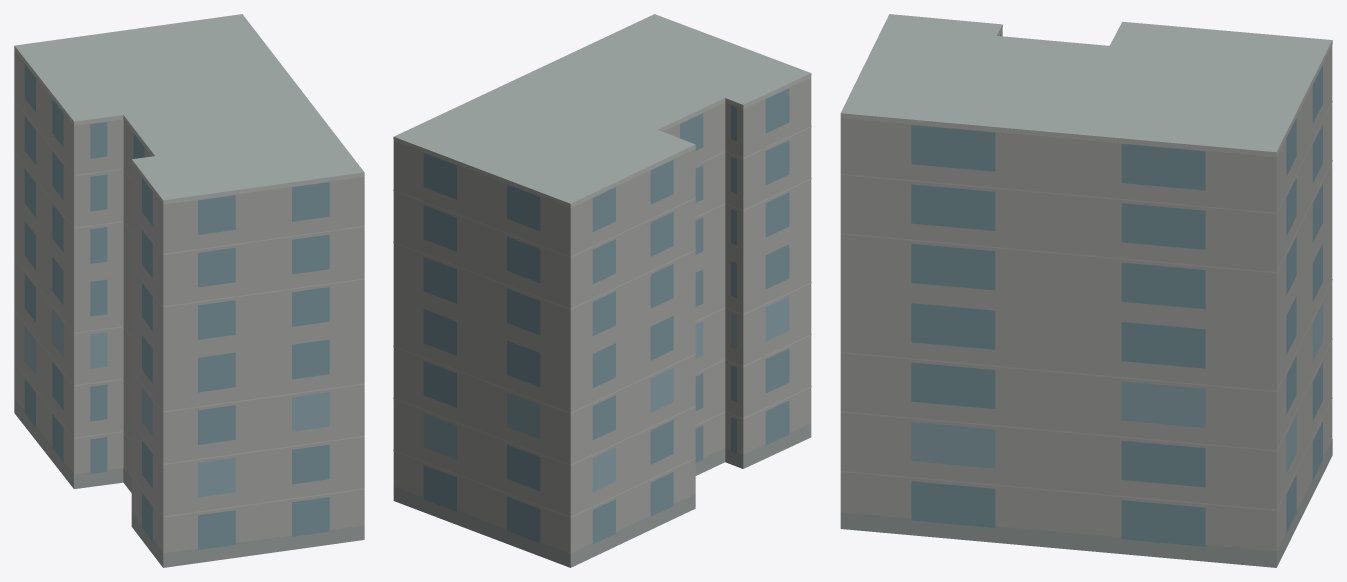
File: survey-upis-32665020.glb
3 views of the same model, side by side, from view 1: azimuth 30°, elevation 25°; view 2: azimuth 150°, elevation 25°; view 3: azimuth 270°, elevation 25° (orthographic). The views are drawn at different scales.
Visible parts, largest first — view 1: survey-upis-32665020.tmp; view 2: survey-upis-32665020.tmp; view 3: survey-upis-32665020.tmp.
Part boxes in pixels (x1=…): survey-upis-32665020.tmp: x1=14, y1=14, x2=364, y2=567; survey-upis-32665020.tmp: x1=393, y1=14, x2=811, y2=567; survey-upis-32665020.tmp: x1=840, y1=14, x2=1332, y2=567.
Bounding box in the file's own units: 14.57 × 20.4 × 21.9.
